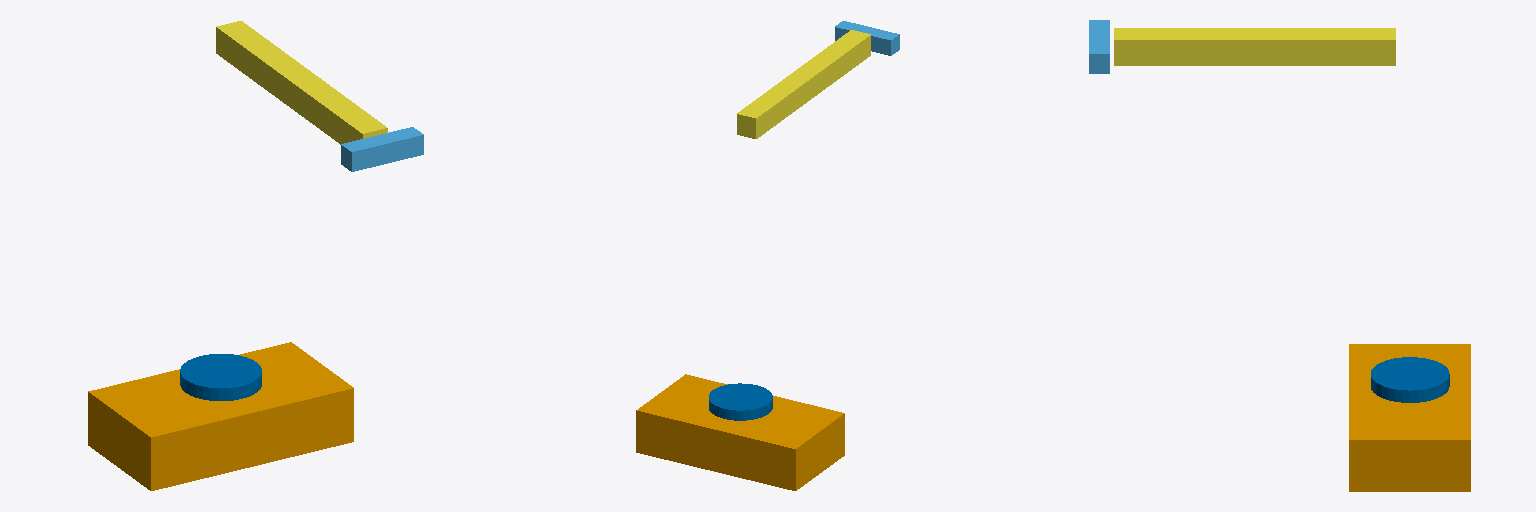
robot.urdf — serial_abstract:
<robot name="serial_abstract" version="1.0">
  <joint name="end_link_joint" type="revolute">
    <limit lower="-3.14000" upper="3.14000" effort="0.00000" velocity="0.00000"/>
    <origin rpy="0.00000 0.00000 0.00000" xyz="0.00000 -0.50000 0.02500"/>
    <parent link="link2_link"/>
    <child link="end_link"/>
    <axis xyz="1.00000 0.00000 0.00000"/>
  </joint>
  <joint name="link1_link_joint" type="revolute">
    <limit lower="-0.50000" upper="1.20000" effort="0.00000" velocity="0.00000"/>
    <origin rpy="0.00000 0.00000 0.00000" xyz="0.00000 0.00000 0.02551"/>
    <parent link="swivel_link"/>
    <child link="link1_link"/>
    <axis xyz="1.00000 0.00000 0.00000"/>
  </joint>
  <joint name="link2_link_joint" type="revolute">
    <limit lower="-1.50000" upper="1.10000" effort="0.00000" velocity="0.00000"/>
    <origin rpy="0.00000 0.00000 0.00000" xyz="0.00000 -0.02500 0.60000"/>
    <parent link="link1_link"/>
    <child link="link2_link"/>
    <axis xyz="1.00000 0.00000 0.00000"/>
  </joint>
  <joint name="swivel_link_joint" type="revolute">
    <limit lower="-1.57000" upper="1.57000" effort="0.00000" velocity="0.00000"/>
    <origin rpy="0.00000 0.00000 0.00000" xyz="-0.00000 -0.00000 0.12440"/>
    <parent link="body_link"/>
    <child link="swivel_link"/>
    <axis xyz="0.00000 0.00000 1.00000"/>
  </joint>
  <link name="body_link">
    <collision name="body.001">
      <origin rpy="0.00000 0.00000 0.00000" xyz="0.00000 0.00000 0.00000"/>
      <geometry>
        <mesh filename="../../../meshes/stl/Cube.017.stl" scale="1.00000 1.00000 1.00000"/>
      </geometry>
    </collision>
    <visual name="body">
      <origin rpy="0.00000 0.00000 0.00000" xyz="0.00000 0.00000 0.00000"/>
      <geometry>
        <mesh filename="../../../meshes/stl/Cube.010.stl" scale="1.00000 1.00000 1.00000"/>
      </geometry>
    </visual>
  </link>
  <link name="end_link">
    <collision name="end.001">
      <origin rpy="0.00000 0.00000 0.00000" xyz="0.00000 -0.00556 0.00000"/>
      <geometry>
        <mesh filename="../../../meshes/stl/Cube.001.stl" scale="0.80840 0.80840 0.80840"/>
      </geometry>
    </collision>
    <visual name="end">
      <origin rpy="0.00000 0.00000 0.00000" xyz="0.00000 0.00000 0.00000"/>
      <geometry>
        <mesh filename="../../../meshes/stl/Cube.stl" scale="1.00000 1.00000 1.00000"/>
      </geometry>
    </visual>
  </link>
  <link name="link1_link">
    <collision name="link1.001">
      <origin rpy="0.00000 0.00000 0.00000" xyz="0.00000 -0.00000 -0.00000"/>
      <geometry>
        <mesh filename="../../../meshes/stl/Cube.016.stl" scale="1.00000 1.00000 1.00000"/>
      </geometry>
    </collision>
    <visual name="link1">
      <origin rpy="0.00000 0.00000 0.00000" xyz="0.00000 -0.00000 -0.00000"/>
      <geometry>
        <mesh filename="../../../meshes/stl/Cube.003.stl" scale="1.00000 1.00000 1.00000"/>
      </geometry>
    </visual>
  </link>
  <link name="link2_link">
    <collision name="link2.001">
      <origin rpy="0.00000 0.00000 0.00000" xyz="0.00000 -0.00000 0.00000"/>
      <geometry>
        <mesh filename="../../../meshes/stl/Cube.015.stl" scale="1.00000 1.00000 1.00000"/>
      </geometry>
    </collision>
    <visual name="link2">
      <origin rpy="0.00000 0.00000 0.00000" xyz="0.00000 -0.00000 0.00000"/>
      <geometry>
        <mesh filename="../../../meshes/stl/Cube.004.stl" scale="1.00000 1.00000 1.00000"/>
      </geometry>
    </visual>
  </link>
  <link name="swivel_link">
    <collision name="swivel.001">
      <origin rpy="0.00000 0.00000 0.00000" xyz="0.00000 0.00000 -0.00000"/>
      <geometry>
        <mesh filename="../../../meshes/stl/Circle.002.stl" scale="0.12364 0.12364 0.12364"/>
      </geometry>
    </collision>
    <visual name="swivel">
      <origin rpy="0.00000 0.00000 0.00000" xyz="0.00000 0.00000 -0.00000"/>
      <geometry>
        <mesh filename="../../../meshes/stl/Circle.001.stl" scale="0.12364 0.12364 0.12364"/>
      </geometry>
    </visual>
  </link>
</robot>

--- Render facts (derived) ---
Views: 3 orthographic renders of the robot side by side, from view 1: azimuth 30°, elevation 25°; view 2: azimuth 150°, elevation 25°; view 3: azimuth 270°, elevation 25°.
Robot: serial_abstract — 5 links, 4 joints (4 revolute); root link body_link; default pose: every joint at zero.
Links seen in each view (by area): view 1: body_link, link2_link, swivel_link, end_link; view 2: body_link, link2_link, swivel_link, end_link; view 3: body_link, link2_link, swivel_link, end_link.
Boxes of the visible links, <box> form: body_link: <box>88,342,353,490</box>; link2_link: <box>216,21,387,144</box>; swivel_link: <box>180,354,261,400</box>; end_link: <box>341,127,423,171</box>; body_link: <box>636,374,844,490</box>; link2_link: <box>737,30,870,138</box>; swivel_link: <box>709,383,772,420</box>; end_link: <box>835,21,899,55</box>; body_link: <box>1349,344,1470,491</box>; link2_link: <box>1114,28,1395,65</box>; swivel_link: <box>1371,357,1449,402</box>; end_link: <box>1089,20,1109,73</box>.
Bounding box of the posed robot: 0.4 × 0.6755 × 0.7999 m (x, y, z).
4 mesh visuals loaded from 5 distinct referenced files (4 binary STL); not drawn: 1 (reference not matched to a file when rendering).